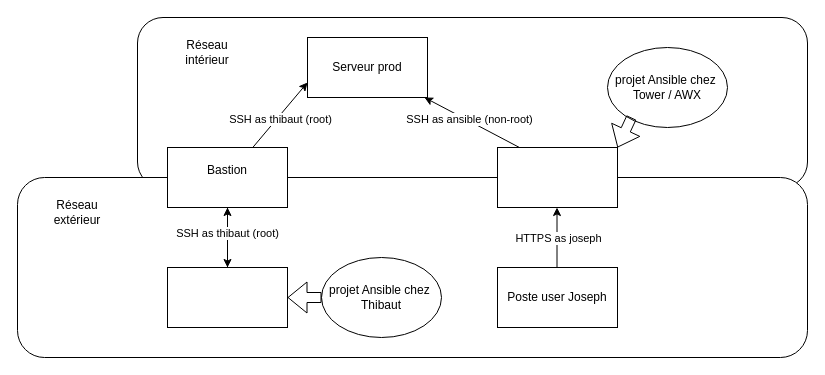
Image size: 825x375. Some labels were removed from this diagram. The shapes that lost their labels are listed below. From the top down, each one's box as (x1, y1, x2, y2) in pixels, then its label:
(496, 146, 618, 208): Serveur AWX/Ansible Tower
(166, 266, 288, 328): Poste admin Thibaut
